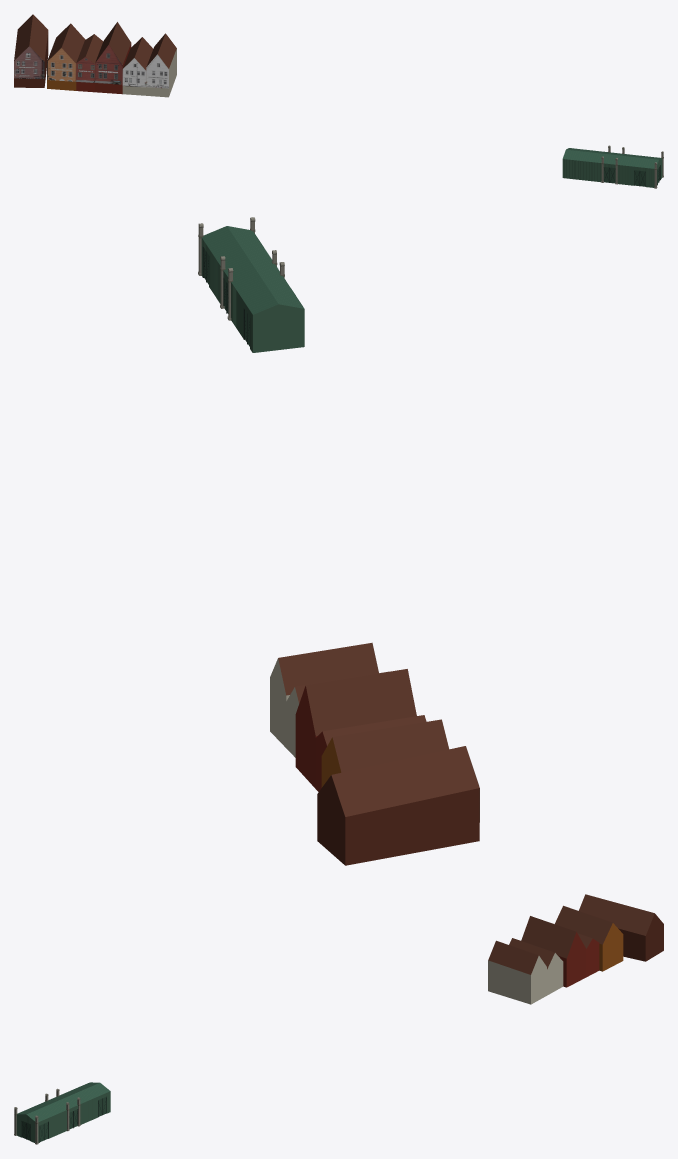
3 views of the same model, one above another, from view 1: azimuth 30°, elevation 25°; view 2: azimuth 150°, elevation 25°; view 3: azimuth 270°, elevation 25° (orthographic). The views are drawn at different scales.
Parts seen in each view (by area): view 1: way/393025479|body, way/393025479|landmark, way/488690084|body, way/331274578|body, way/331274567|body, way/292320261|body, way/331274567|facade, way/488690084|facade, way/331274578|facade, way/292320260|body, way/331274560|body, way/292320261|facade (+2 smaller); view 2: way/488690084|body, way/393025479|body, way/331274567|body, way/331274578|body, way/292320261|body, way/393025479|landmark, way/331274560|body; view 3: way/292320261|body, way/488690084|body, way/393025479|body, way/331274567|body, way/331274578|body, way/393025479|landmark, way/292320260|body, way/331274560|body.
Part boxes in pixels (x1=…): way/393025479|body: x1=563, y1=145, x2=663, y2=188; way/393025479|landmark: x1=562, y1=146, x2=663, y2=187; way/488690084|body: x1=14, y1=14, x2=48, y2=87; way/331274578|body: x1=47, y1=23, x2=85, y2=90; way/331274567|body: x1=95, y1=22, x2=131, y2=94; way/292320261|body: x1=146, y1=33, x2=176, y2=97; way/331274567|facade: x1=95, y1=45, x2=122, y2=84; way/488690084|facade: x1=14, y1=46, x2=44, y2=78; way/331274578|facade: x1=47, y1=48, x2=76, y2=81; way/292320260|body: x1=122, y1=37, x2=152, y2=95; way/331274560|body: x1=76, y1=34, x2=103, y2=92; way/292320261|facade: x1=146, y1=54, x2=168, y2=88; way/488690084|body: x1=317, y1=746, x2=479, y2=865; way/393025479|body: x1=198, y1=217, x2=304, y2=352; way/331274567|body: x1=295, y1=669, x2=416, y2=788; way/331274578|body: x1=321, y1=719, x2=448, y2=787; way/292320261|body: x1=270, y1=643, x2=378, y2=747; way/393025479|landmark: x1=198, y1=217, x2=303, y2=352; way/331274560|body: x1=315, y1=715, x2=426, y2=791; way/292320261|body: x1=488, y1=940, x2=546, y2=1004; way/488690084|body: x1=579, y1=894, x2=663, y2=961; way/393025479|body: x1=14, y1=1082, x2=110, y2=1144; way/331274567|body: x1=521, y1=916, x2=586, y2=987; way/331274578|body: x1=555, y1=906, x2=623, y2=971; way/393025479|landmark: x1=14, y1=1082, x2=110, y2=1142; way/292320260|body: x1=509, y1=938, x2=563, y2=995; way/331274560|body: x1=577, y1=933, x2=599, y2=977.
Bounding box in the file's own units: 145 × 17.13 × 188.
Materials: 2 (1 with a texture image).
